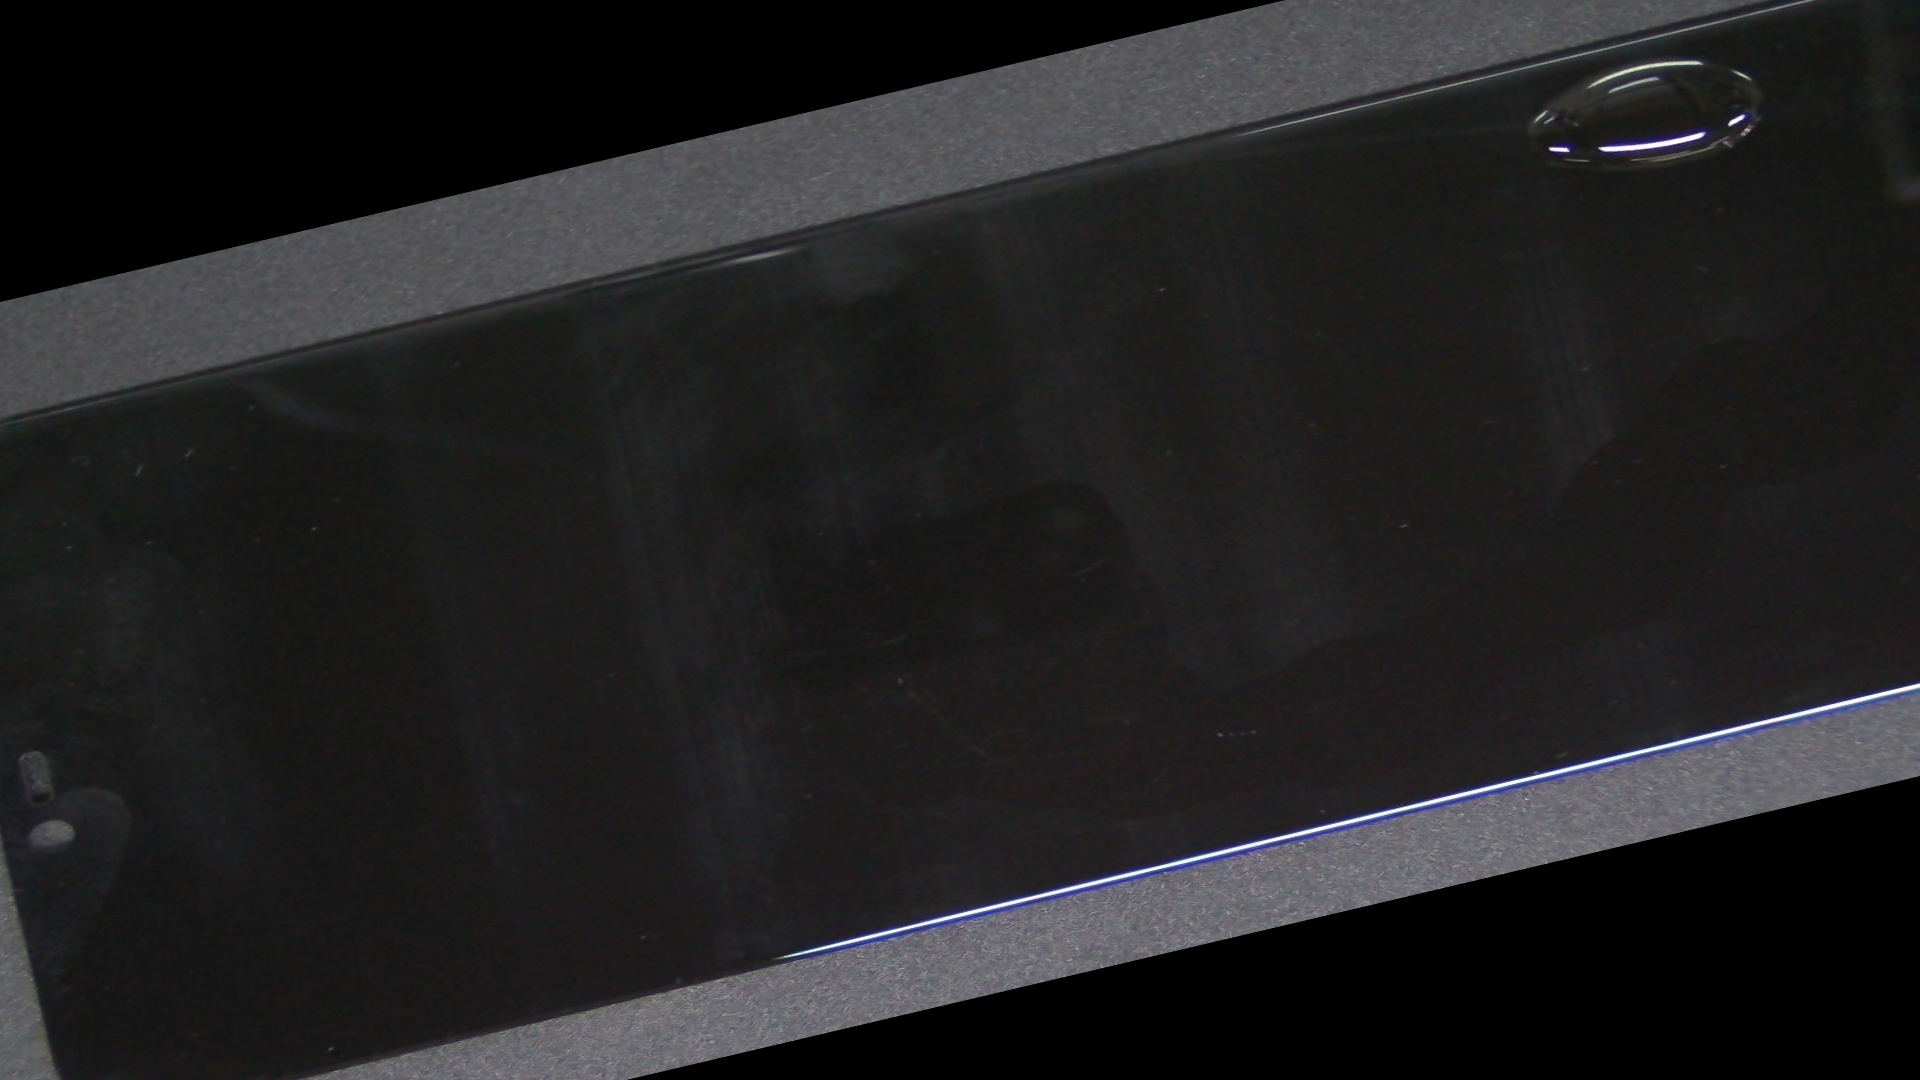oil: (699, 0, 1920, 345)
